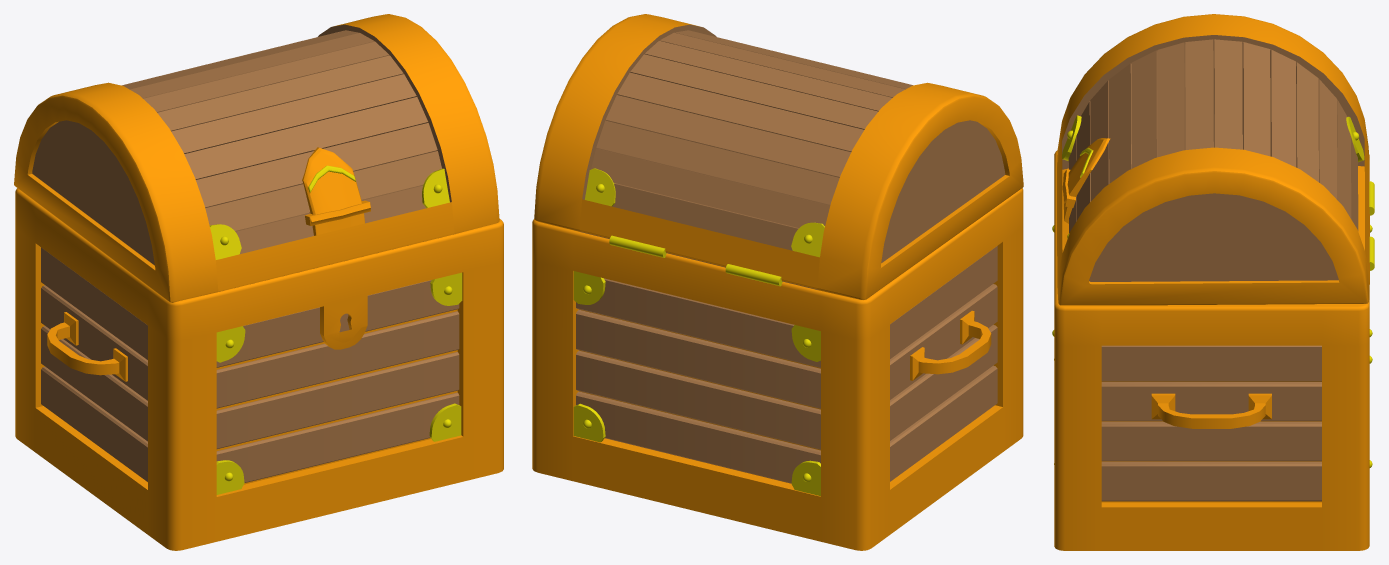
Rendered from Chest_Animated_withUV.fbx.
3 renders of one model, left to right at view 1: azimuth 30°, elevation 25°; view 2: azimuth 150°, elevation 25°; view 3: azimuth 270°, elevation 25°, orthographic. The views are drawn at different scales.
Visible parts, largest first — view 1: Chest_Bottom, Chest_Up; view 2: Chest_Bottom, Chest_Up; view 3: Chest_Up, Chest_Bottom.
Part boxes in pixels (bbox=[...]): Chest_Bottom: bbox=[15, 188, 503, 550]; Chest_Up: bbox=[14, 14, 499, 302]; Chest_Bottom: bbox=[532, 188, 1023, 550]; Chest_Up: bbox=[534, 14, 1023, 299]; Chest_Up: bbox=[1057, 14, 1369, 305]; Chest_Bottom: bbox=[1052, 150, 1374, 550].
Bounding box in the file's own units: 77.36 × 71.62 × 55.23.
